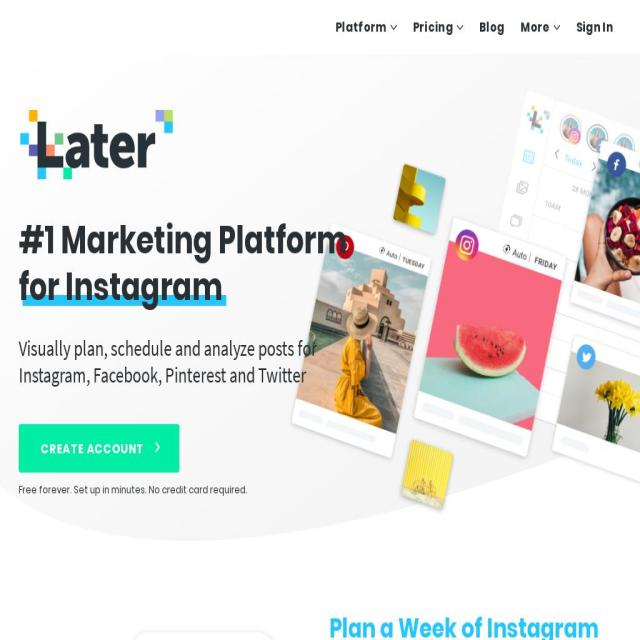button: (19, 423, 180, 472), (336, 0, 396, 54), (412, 0, 463, 54), (521, 0, 560, 54), (576, 0, 614, 54), (479, 0, 505, 54)
heading: (19, 195, 175, 413), (19, 334, 388, 388), (19, 212, 347, 266), (19, 262, 222, 310), (329, 611, 621, 640)
image: (255, 31, 640, 590), (0, 431, 640, 556), (18, 620, 310, 640), (152, 440, 162, 453), (390, 25, 397, 42), (457, 25, 464, 42), (553, 25, 560, 42)
text: (19, 481, 248, 497), (40, 438, 144, 458), (336, 18, 390, 36), (413, 18, 455, 36), (520, 18, 552, 36)
